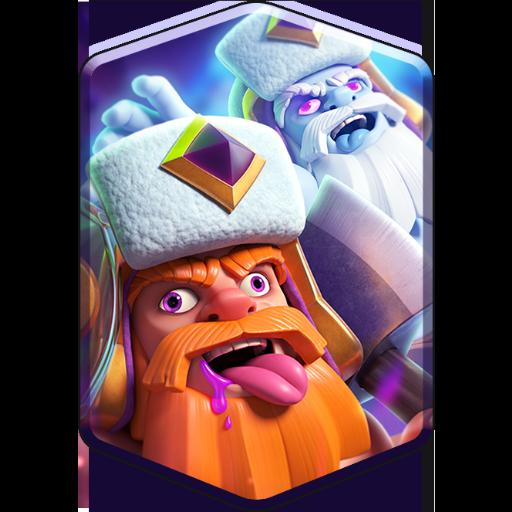lumberjack-evo: (88, 48, 424, 464)
